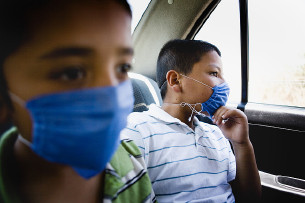face_mask: (13, 12, 132, 171), (188, 51, 228, 114)
